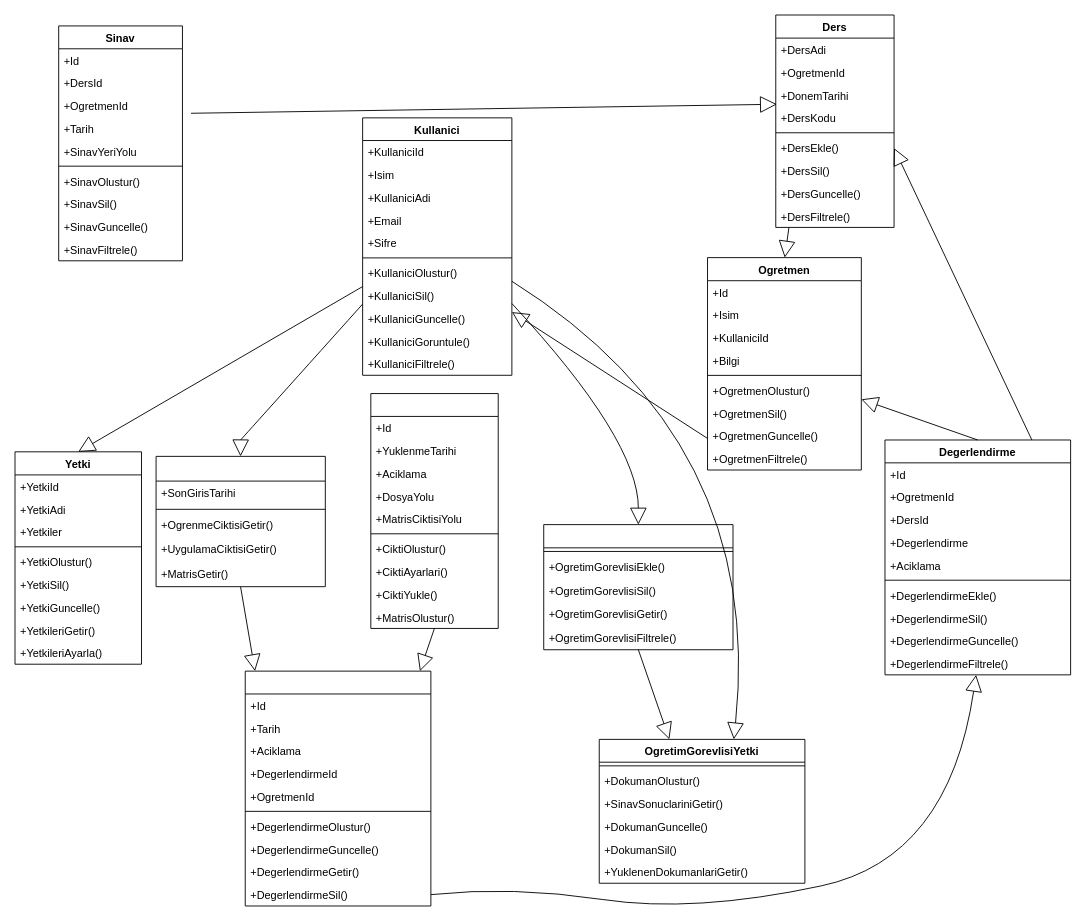
The diagram is 1086 pixels wide and 921 high, and some of its shapes have lost their labels. The shapes that lost their labels are listed below. From the top down, each one's box as (x1, y1, x2, y2) in pixels, then its label:
(155, 455, 325, 587): MUDEKDenetcisiYetki
(370, 393, 498, 628): UygulamaCiktisi
(543, 524, 733, 650): BolumBaskaniYetki
(244, 670, 431, 906): OgrenimCiktisi
